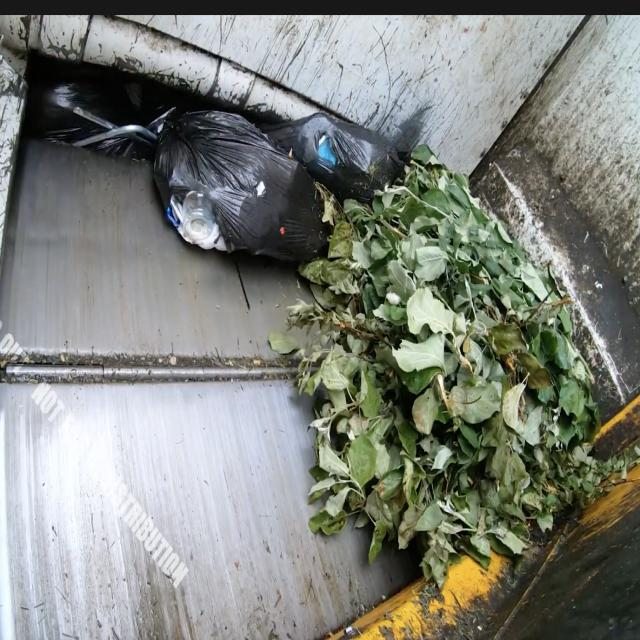bag: (130, 102, 398, 262)
yard: (292, 176, 618, 612)
